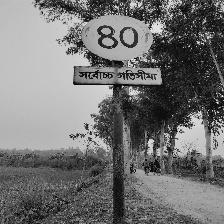Speed-limit: (74, 14, 161, 87)
